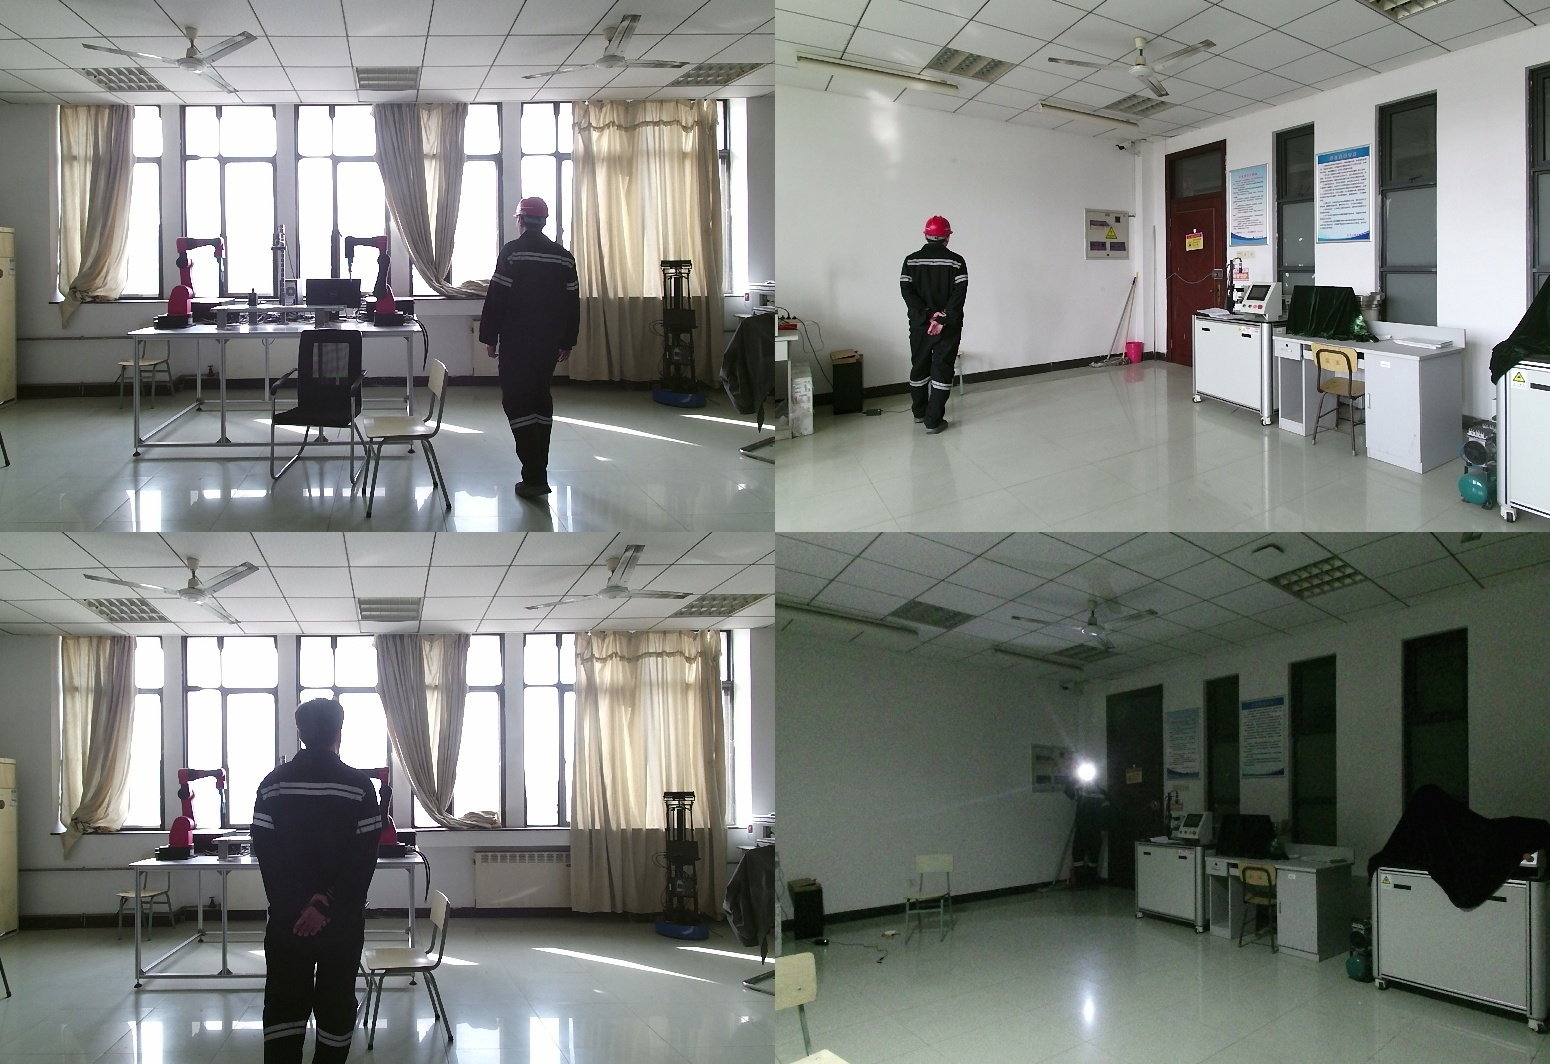person: (249, 699, 398, 1064), (483, 195, 598, 500), (895, 216, 981, 438), (1063, 769, 1107, 895)
